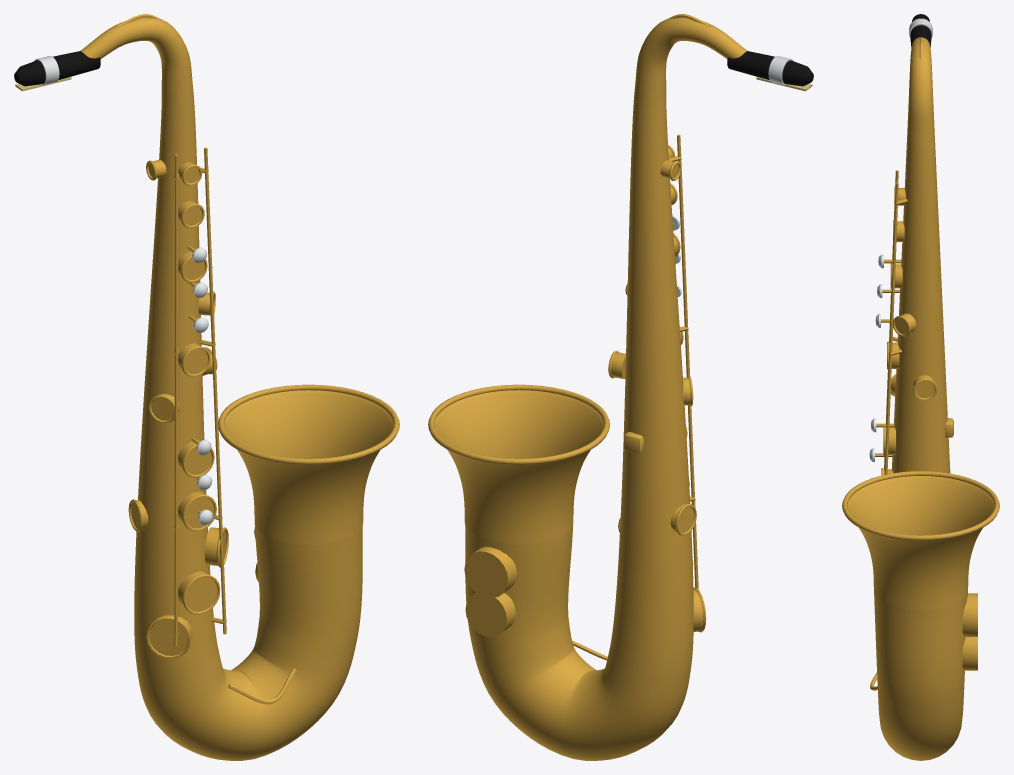
The model's file is saxophone.glb.
The picture shows the model from 3 angles, left to right: view 1: azimuth 30°, elevation 25°; view 2: azimuth 150°, elevation 25°; view 3: azimuth 270°, elevation 25°; orthographic projection. The views are drawn at different scales.
Parts seen in each view (by area): view 1: Saxophone; view 2: Saxophone; view 3: Saxophone.
Part boxes in pixels (x1=…): Saxophone: x1=14, y1=14, x2=399, y2=760; Saxophone: x1=428, y1=14, x2=813, y2=760; Saxophone: x1=842, y1=14, x2=999, y2=760.
Size of the model in its own units: 0.339 by 0.6692 by 0.144.
